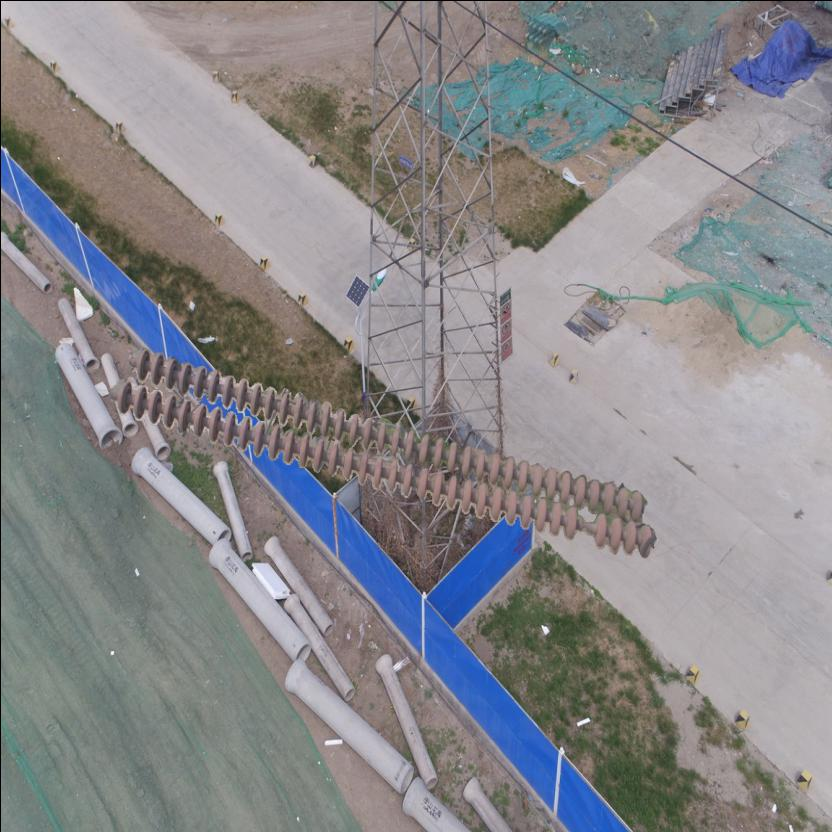defect: (562, 498, 608, 547)
